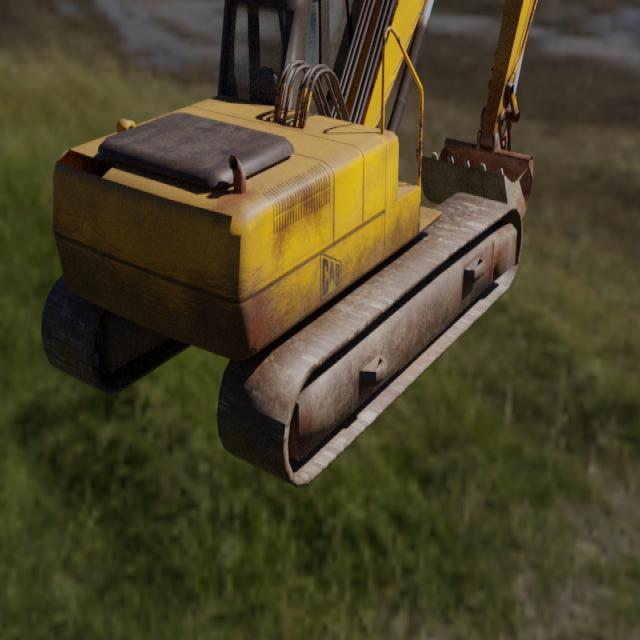excavator: (40, 0, 538, 489)
